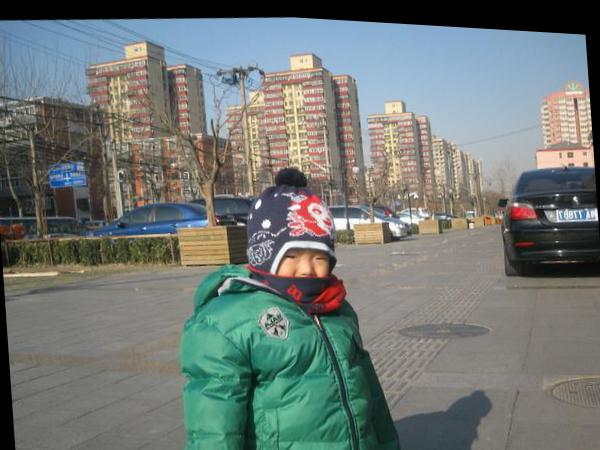WRONG: (274, 237, 336, 305)
